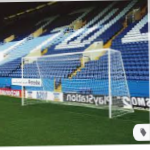goals: (19, 47, 134, 119)
